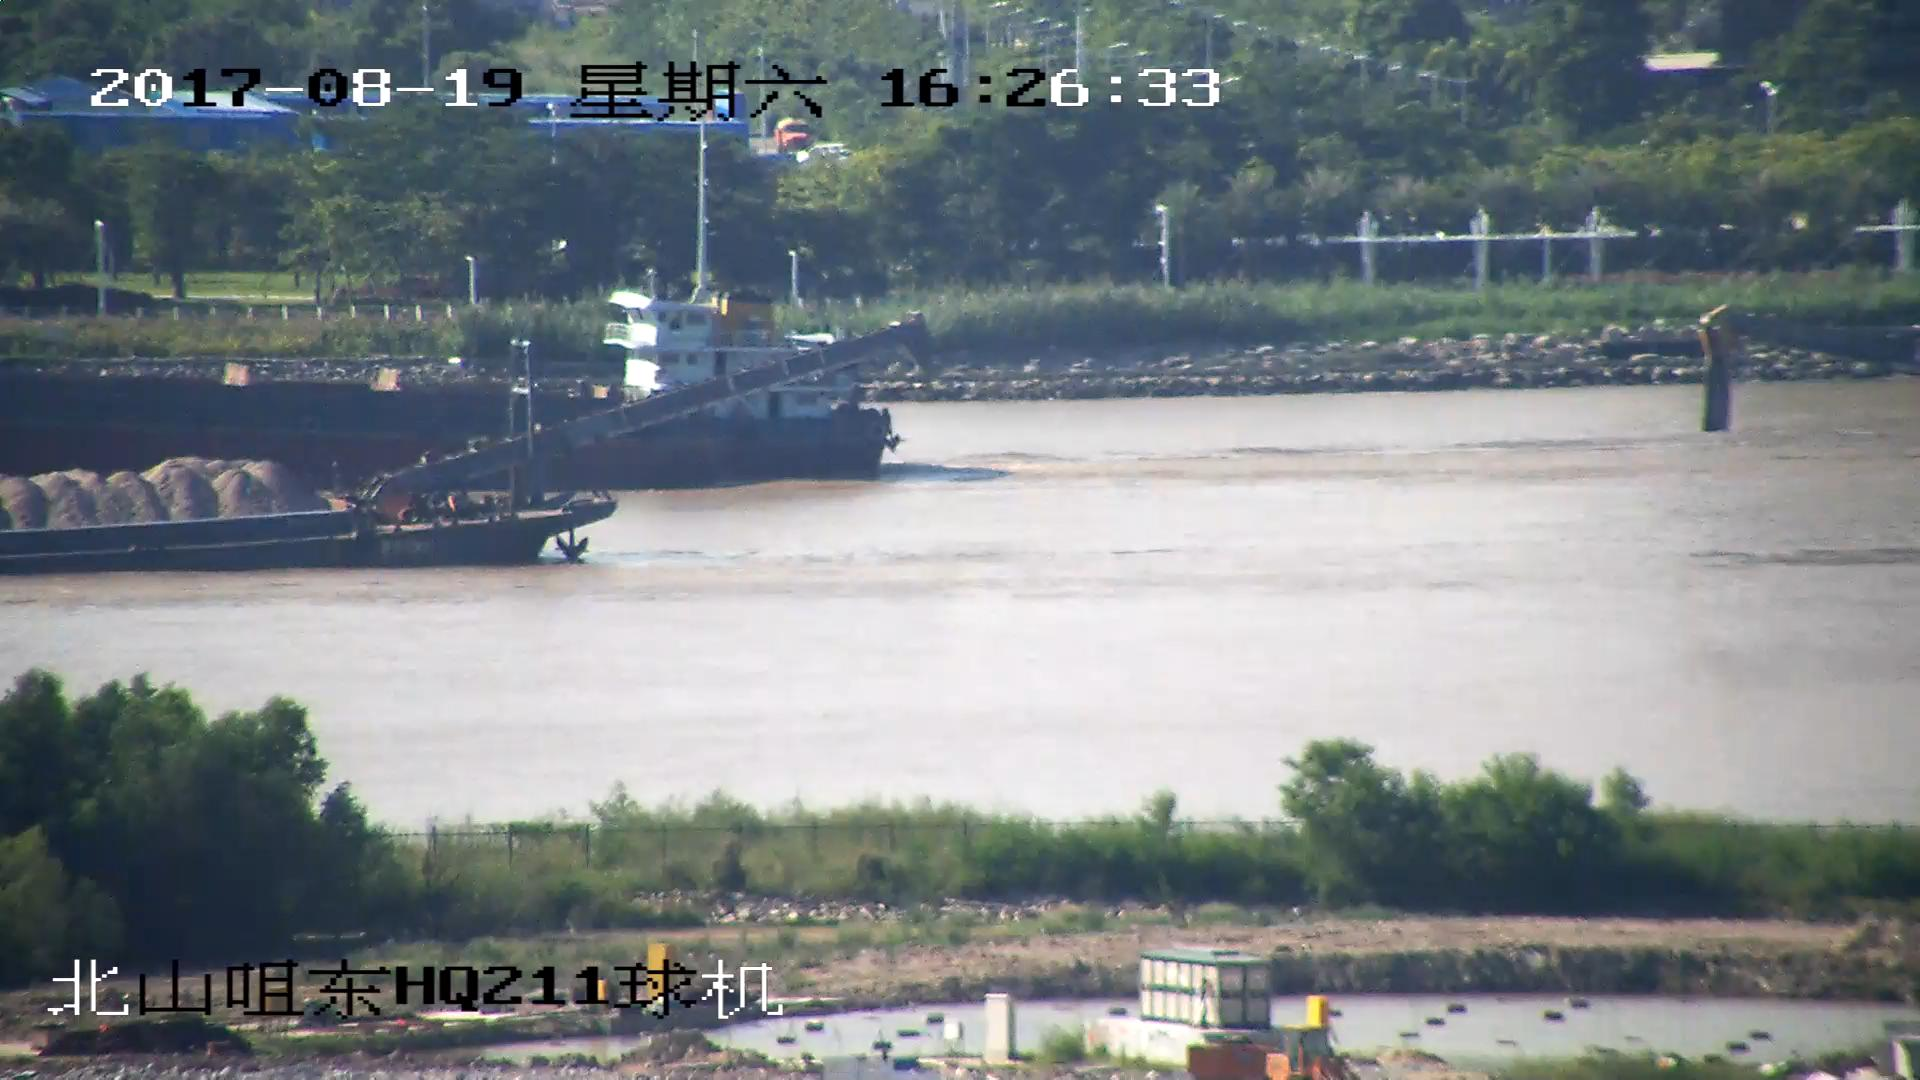bulk cargo carrier: (1, 261, 901, 479)
ore carrier: (1, 318, 925, 581)
